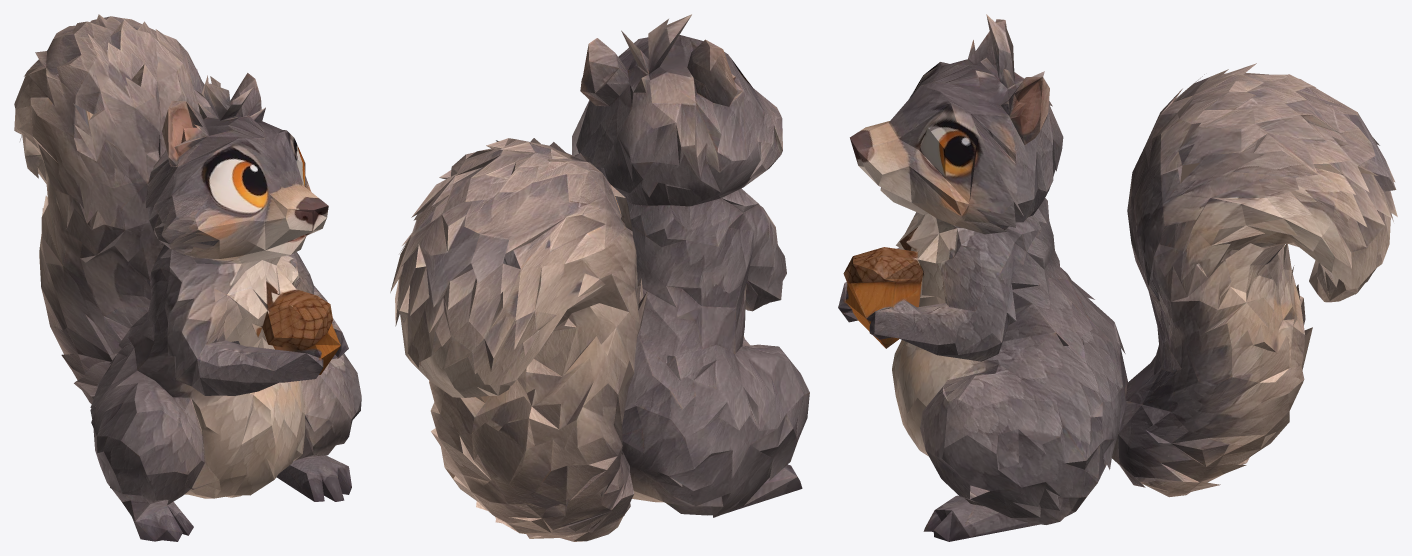
File: squirrel.glb
3 views of the same model, side by side, from view 1: azimuth 30°, elevation 25°; view 2: azimuth 150°, elevation 25°; view 3: azimuth 270°, elevation 25° (orthographic). The views are drawn at different scales.
Size of the model in its own units: 0.1508 by 0.25 by 0.2758.
Materials: 1 (1 with a texture image).
